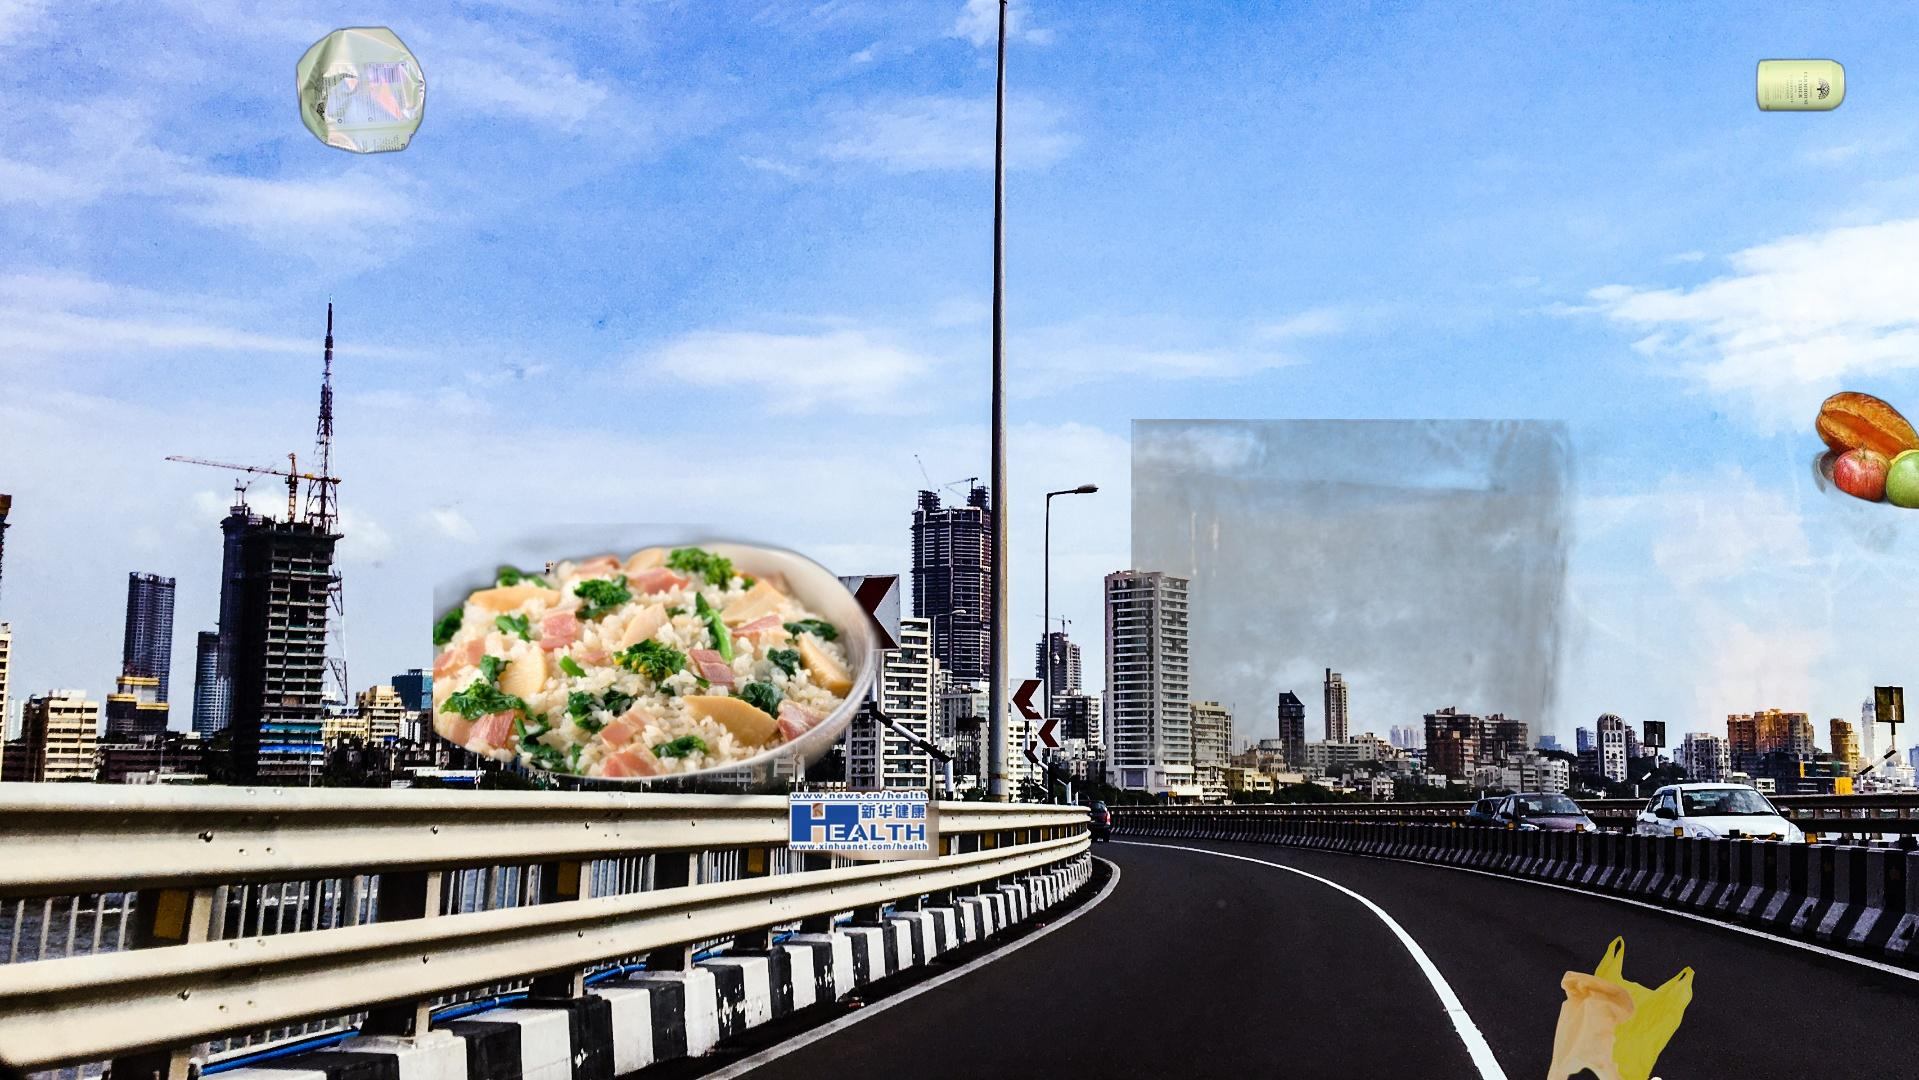biological: (434, 524, 938, 860), (1796, 382, 1919, 558)
metal-cans: (293, 20, 729, 564), (1752, 53, 1850, 117)
paper: (1131, 419, 1644, 803)
plastic-bag: (1539, 932, 1786, 1080)
